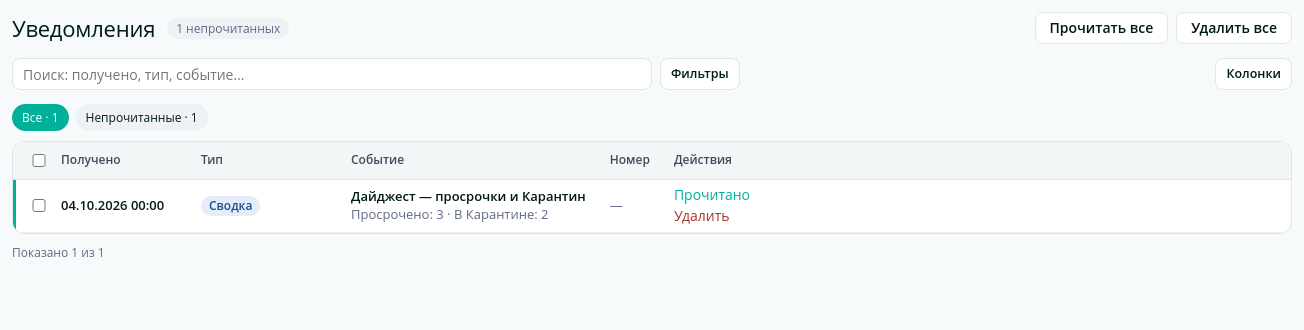
Test: keeps the row and shows the error when the server refuses the delete
The width and height of the screenshot is (1304, 330).
Step 1. Click the button "Удалить" → [702, 216], box [674, 207, 730, 226]
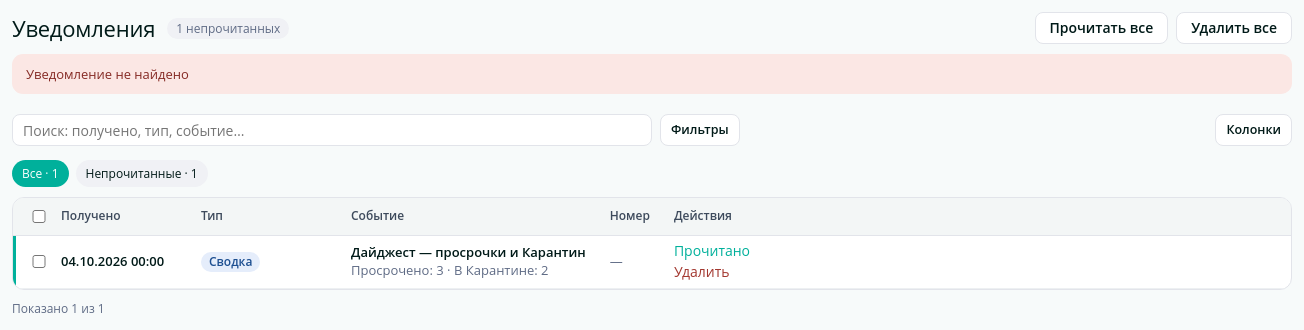
Check: the text "Дайджест — просрочки и Карантин" is shown, box [351, 244, 586, 262]
Check: the message reads "Уведомление не найдено", box [26, 65, 189, 83]
